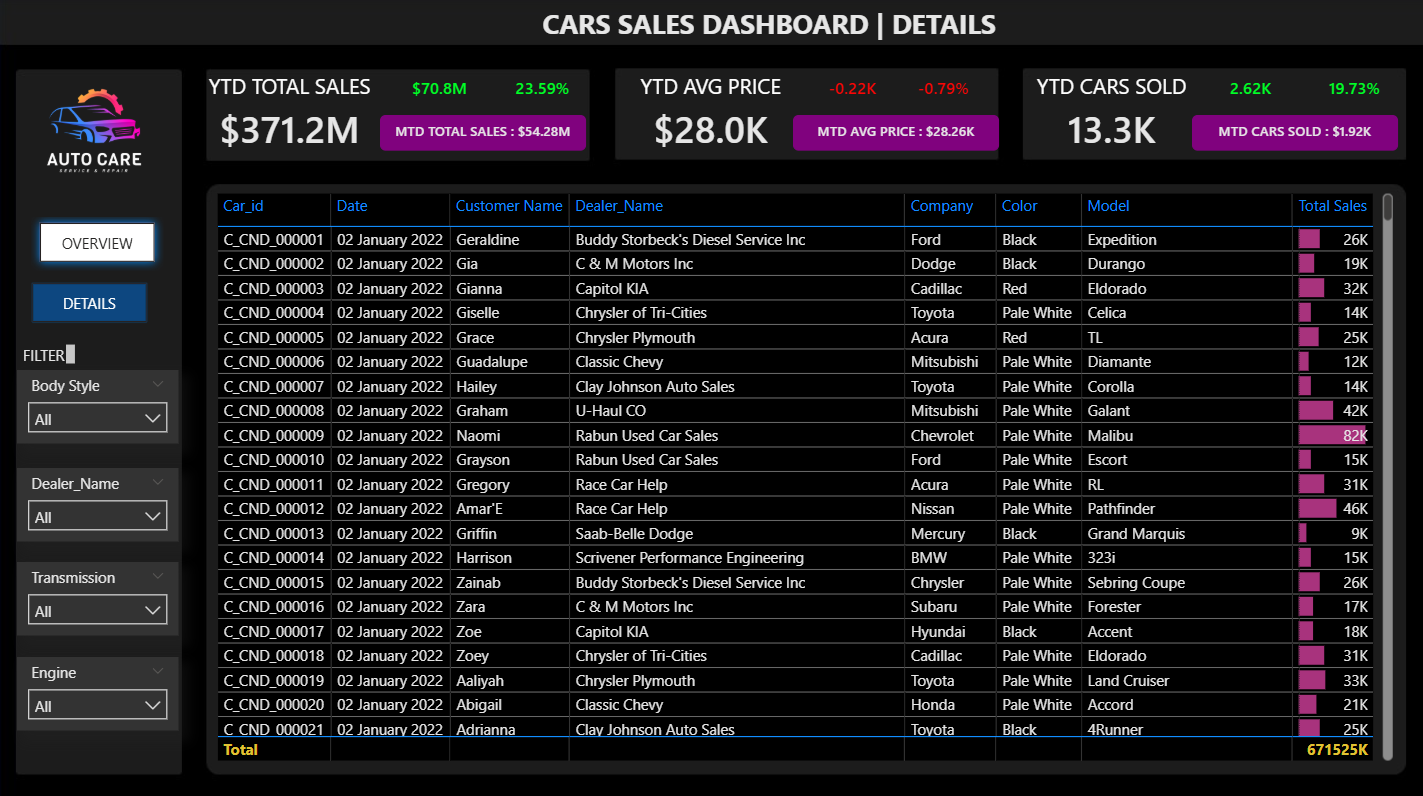

Layout of this report page (visuals, bound fields, positions):
{"tool":"powerbi","page":{"name":"DETAILS","canvas":[1280,720],"ordinal":1},"visuals":[{"type":"card","title":"YTD TOTAL SALES","fields":{"Values":["MEASURES_.TOTAL YTD SALES"]},"box":[173.1,65.2,177,77.8],"z":0},{"type":"card","fields":{"Values":["MEASURES_.SALES DIFFERENCE"]},"box":[343.3,59.3,107,44.7],"z":1000},{"type":"card","fields":{"Values":["MEASURES_.YOY SALES GROWTH"]},"box":[435.7,59.3,107,44.7],"z":2000},{"type":"card","fields":{"Values":["MEASURES_.MTD KPI"]},"box":[343.3,104.1,184.8,32.1],"z":3000},{"type":"card","title":"YTD AVG PRICE","fields":{"Values":["MEASURES_.YTD AVG PRICE"]},"box":[551.5,65.2,177,77.8],"z":4000},{"type":"card","fields":{"Values":["MEASURES_.AVG PRICE DIFFERENCE"]},"box":[713.9,59.3,107,44.7],"z":5000},{"type":"card","fields":{"Values":["MEASURES_.YOY AVG PRICE GROWTH"]},"box":[795.6,59.3,107,44.7],"z":6000},{"type":"card","fields":{"Values":["MEASURES_.MTD AVG PRICE KPI"]},"box":[713.9,104.1,184.8,32.1],"z":7000},{"type":"card","title":"YTD CARS SOLD","fields":{"Values":["MEASURES_.YTD CARS SOLD"]},"box":[911.4,65.2,177,77.8],"z":8000},{"type":"card","fields":{"Values":["MEASURES_.CARS SOLD DIFF"]},"box":[1070.9,59.3,107,44.7],"z":9000},{"type":"card","fields":{"Values":["MEASURES_.YOY CARS SOLD GROWTH"]},"box":[1164.3,59.3,107,44.7],"z":10000},{"type":"card","fields":{"Values":["MEASURES_.MTD CARS SOLD KPI"]},"box":[1071.8,104.1,184.8,31.6],"z":11000},{"type":"textbox","box":[483.9,0,459.7,44],"z":17000},{"type":"slicer","fields":{"Values":["car_data.Body Style"]},"box":[17.1,333.1,144.5,66.4],"z":18000},{"type":"slicer","fields":{"Values":["car_data.Dealer_Name"]},"box":[17.1,421,144.5,66.4],"z":19000},{"type":"slicer","fields":{"Values":["car_data.Transmission"]},"box":[17.1,505.4,144.5,66.4],"z":20000},{"type":"slicer","fields":{"Values":["car_data.Engine"]},"box":[17.1,590.7,144.5,66.4],"z":21000},{"type":"textbox","box":[17.1,305.2,57.5,27.8],"z":22000},{"type":"tableEx","fields":{"Values":["car_data.Car_id","car_data.Date","car_data.Customer Name","car_data.Dealer_Name","car_data.Company","car_data.Color","car_data.Model","car_data.Price ($)"]},"box":[191.2,169.7,1065.6,518.9],"z":22001},{"type":"pageNavigator","box":[29.6,193,119.4,112.2],"z":22002},{"type":"image","box":[11.7,44,149.9,149.9],"z":22003}]}

Visuals, with their boxes in screenshot pixels (x1, y1, x2, y2), scaled from the page's 1280x720 canvas onto the 1423x796 screenshot:
"YTD TOTAL SALES" card: left=192, top=72, right=389, bottom=158
card - MEASURES_.SALES DIFFERENCE: left=382, top=66, right=501, bottom=115
card - MEASURES_.YOY SALES GROWTH: left=484, top=66, right=603, bottom=115
card - MEASURES_.MTD KPI: left=382, top=115, right=587, bottom=151
"YTD AVG PRICE" card: left=613, top=72, right=810, bottom=158
card - MEASURES_.AVG PRICE DIFFERENCE: left=794, top=66, right=913, bottom=115
card - MEASURES_.YOY AVG PRICE GROWTH: left=884, top=66, right=1003, bottom=115
card - MEASURES_.MTD AVG PRICE KPI: left=794, top=115, right=999, bottom=151
"YTD CARS SOLD" card: left=1013, top=72, right=1210, bottom=158
card - MEASURES_.CARS SOLD DIFF: left=1191, top=66, right=1309, bottom=115
card - MEASURES_.YOY CARS SOLD GROWTH: left=1294, top=66, right=1413, bottom=115
card - MEASURES_.MTD CARS SOLD KPI: left=1192, top=115, right=1397, bottom=150
textbox: left=538, top=0, right=1049, bottom=49
slicer - car_data.Body Style: left=19, top=368, right=180, bottom=442
slicer - car_data.Dealer_Name: left=19, top=465, right=180, bottom=539
slicer - car_data.Transmission: left=19, top=559, right=180, bottom=632
slicer - car_data.Engine: left=19, top=653, right=180, bottom=726
textbox: left=19, top=337, right=83, bottom=368
tableEx - car_data.Car_id x car_data.Date: left=213, top=188, right=1397, bottom=761
pageNavigator: left=33, top=213, right=166, bottom=337
image: left=13, top=49, right=180, bottom=214
